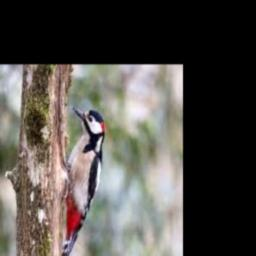Woodpecker: (61, 106, 105, 256)
